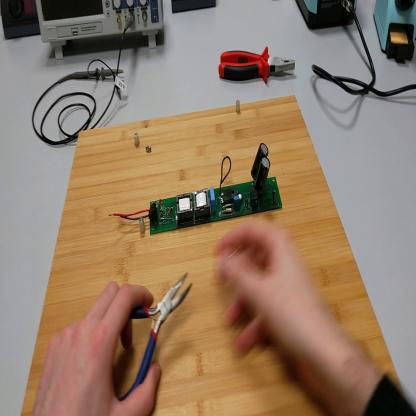hand: (217, 218, 330, 370), (35, 281, 163, 415)
high voltage board: (111, 143, 284, 239)
oscilloscope: (37, 2, 166, 64)
oscilloscope probe tip: (72, 64, 123, 87)
pliers: (123, 274, 197, 402), (219, 37, 295, 95)
socket: (1, 2, 42, 39)
welder base: (374, 3, 416, 69)
welder station: (294, 1, 358, 34)
working area: (24, 97, 406, 415)
